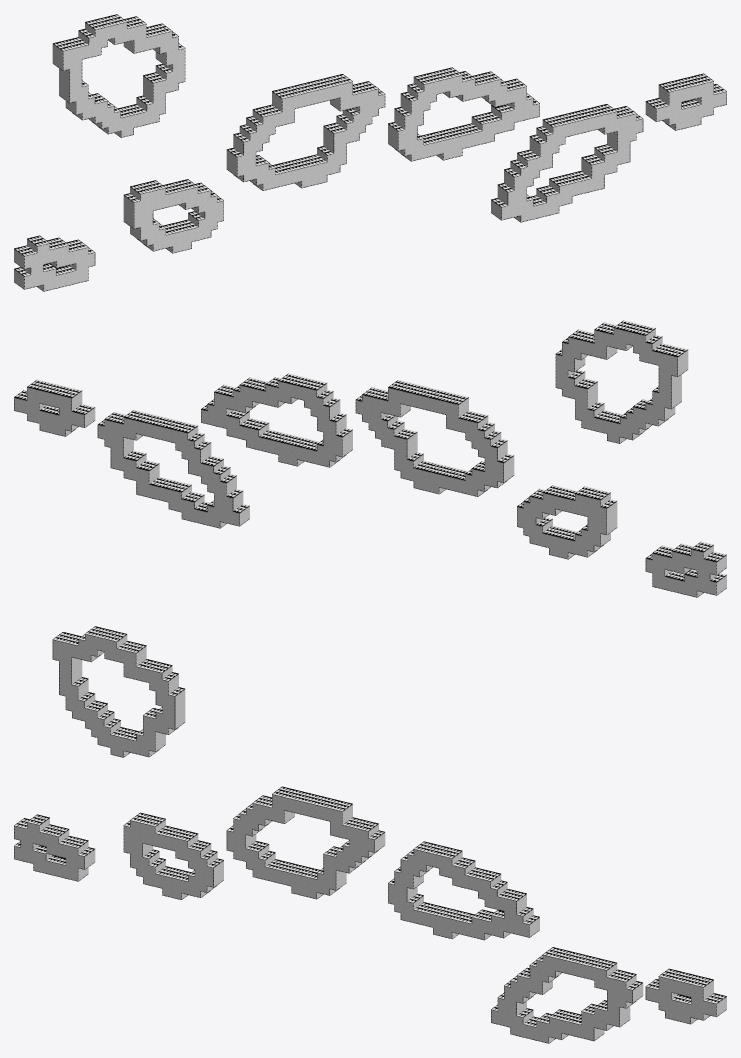
Rendered from Luna0CharsNuvens.glb.
3 views of the same model, one above another, from view 1: azimuth 30°, elevation 25°; view 2: azimuth 150°, elevation 25°; view 3: azimuth 330°, elevation 25° (orthographic).
Visible parts, largest first — view 1: Setor_0, Setor_2, Setor_1, Setor_3; view 2: Setor_0, Setor_2, Setor_1, Setor_3; view 3: Setor_0, Setor_2, Setor_1, Setor_3.
Part boxes in pixels (x1=…): Setor_0: x1=14, y1=14, x2=198, y2=291; Setor_2: x1=394, y1=67, x2=610, y2=222; Setor_1: x1=188, y1=74, x2=404, y2=240; Setor_3: x1=601, y1=73, x2=726, y2=173; Setor_0: x1=542, y1=320, x2=726, y2=597; Setor_2: x1=130, y1=373, x2=346, y2=528; Setor_1: x1=336, y1=380, x2=552, y2=546; Setor_3: x1=14, y1=379, x2=139, y2=479; Setor_0: x1=14, y1=626, x2=197, y2=899; Setor_2: x1=394, y1=841, x2=610, y2=1043; Setor_1: x1=188, y1=786, x2=394, y2=904; Setor_3: x1=600, y1=961, x2=726, y2=1030.
Bounding box in the file's own units: 113 × 45.76 × 2.88.
Materials: 1 (1 with a texture image).
